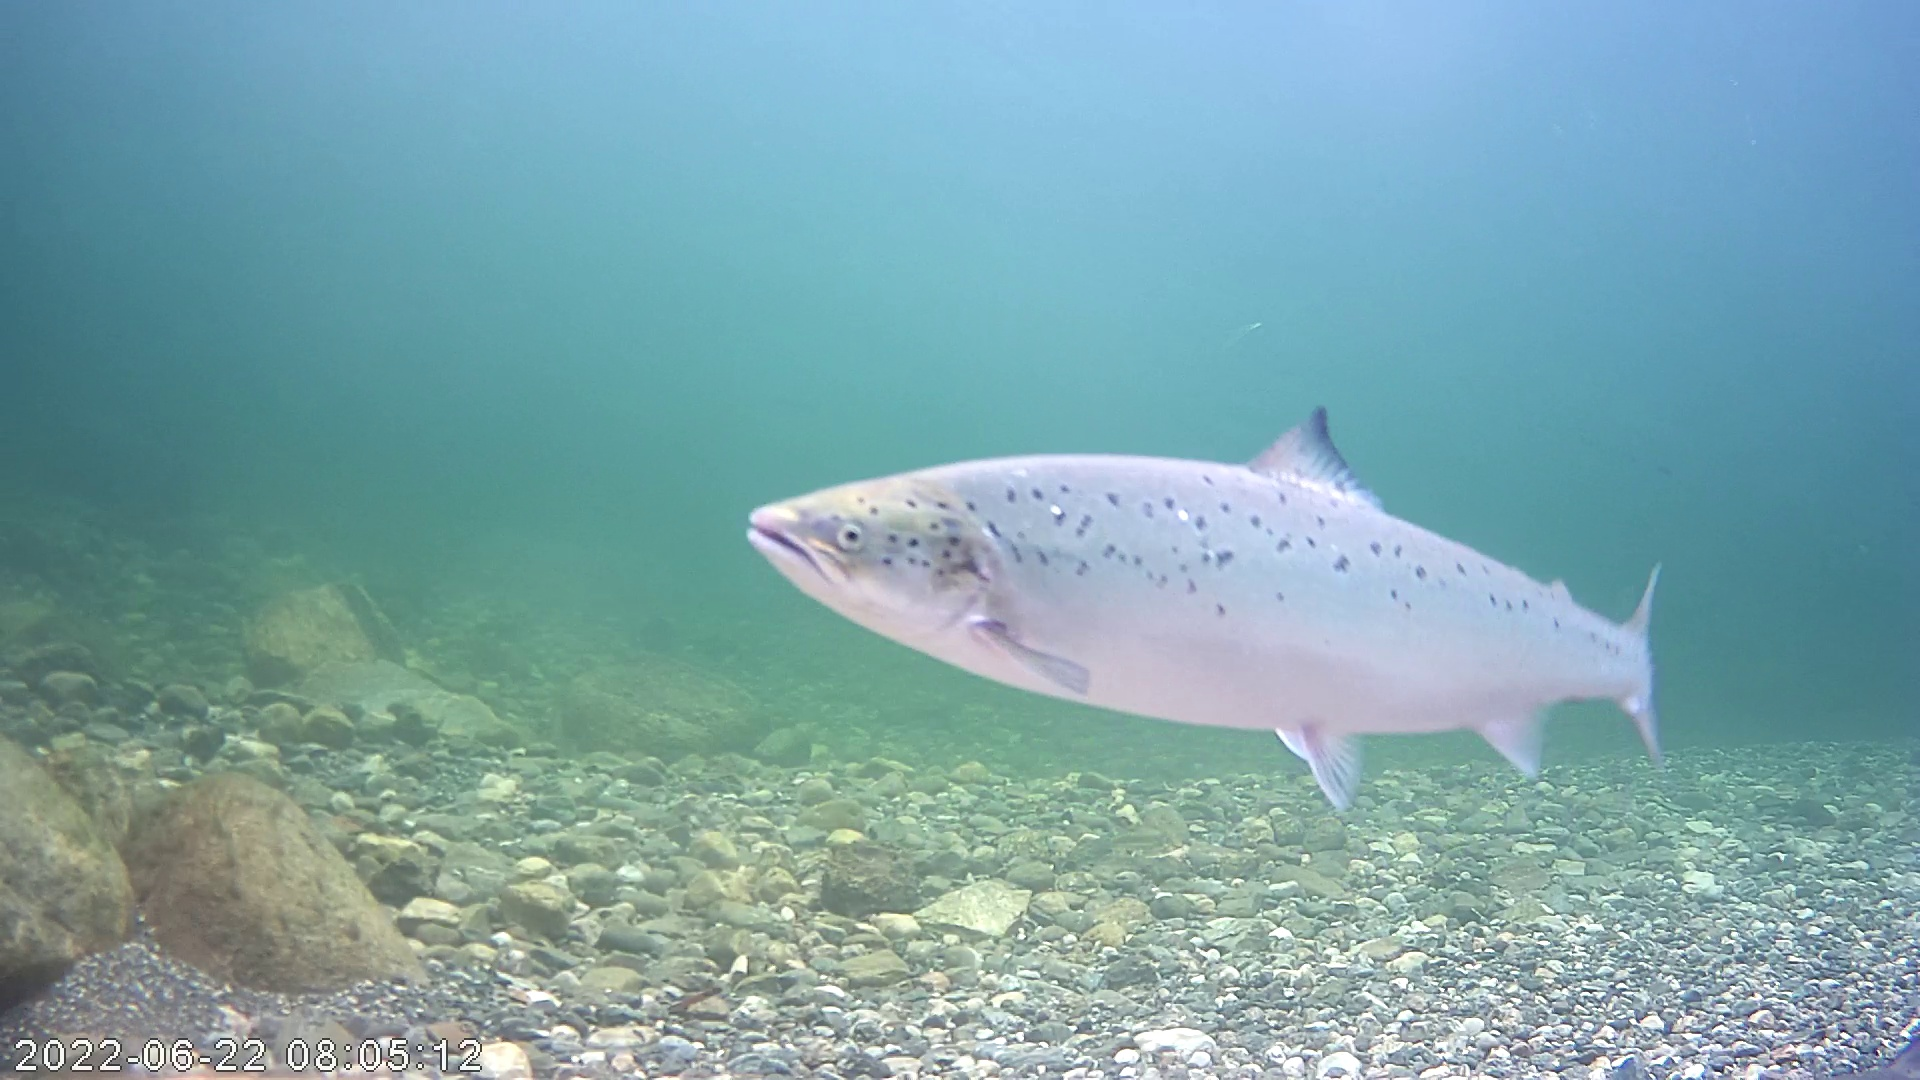salmon: (740, 400, 1676, 814)
